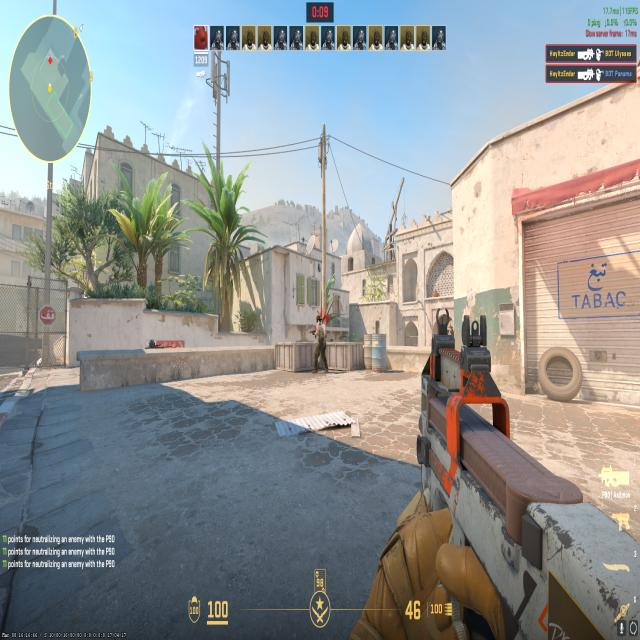ct: (144, 331, 160, 348)
t: (304, 310, 328, 375)
